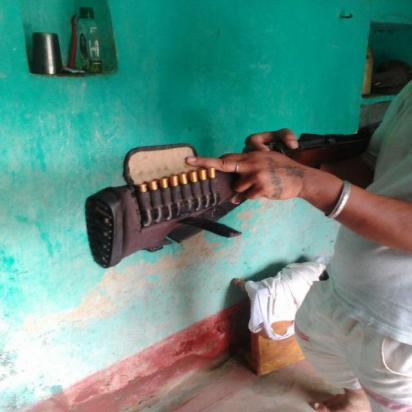Gun: (82, 129, 389, 270)
